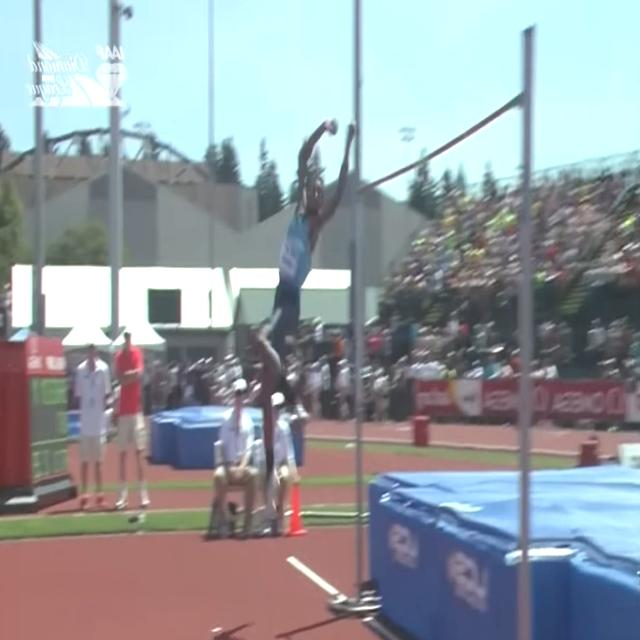jump: (250, 117, 356, 521)
